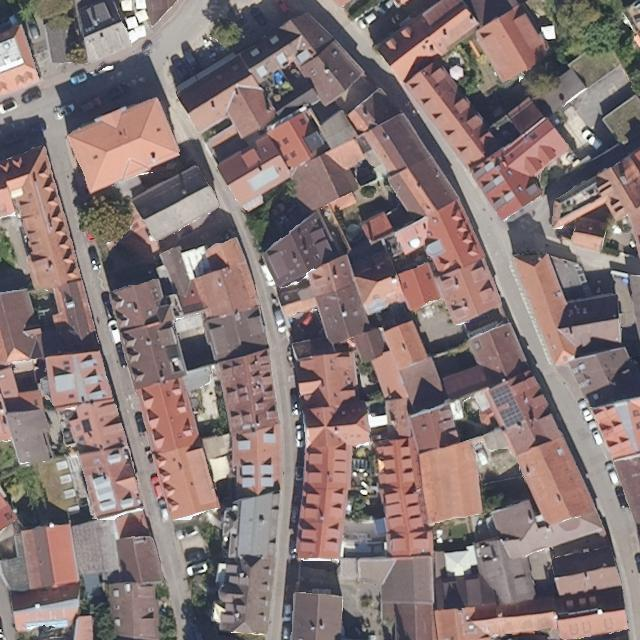PV: (489, 383, 525, 428), (80, 418, 93, 434)
